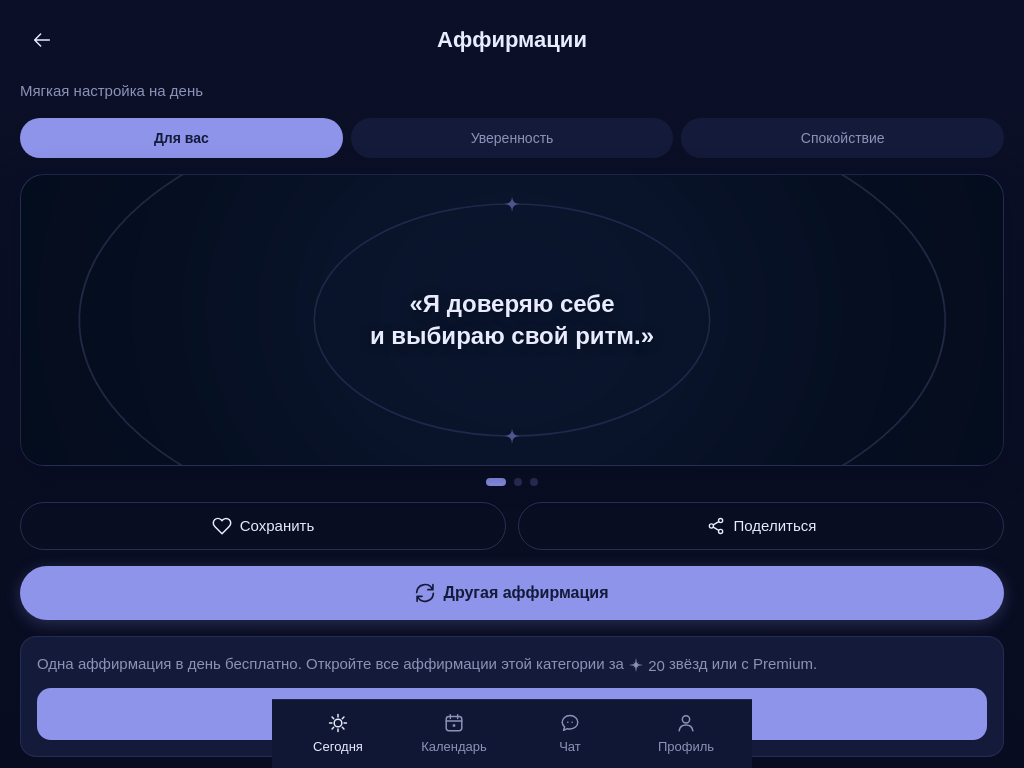
Test case: AffirmationsScreen › advances to next affirmation when 'Другая аффирмация' is clicked
Check: the text "«Я доверяю себе и выбираю свой ритм.»" is shown, box [370,288,654,352]
Click the button with aria-label "Показать другую аффирмацию" at (512, 593), box [20,566,1004,620]
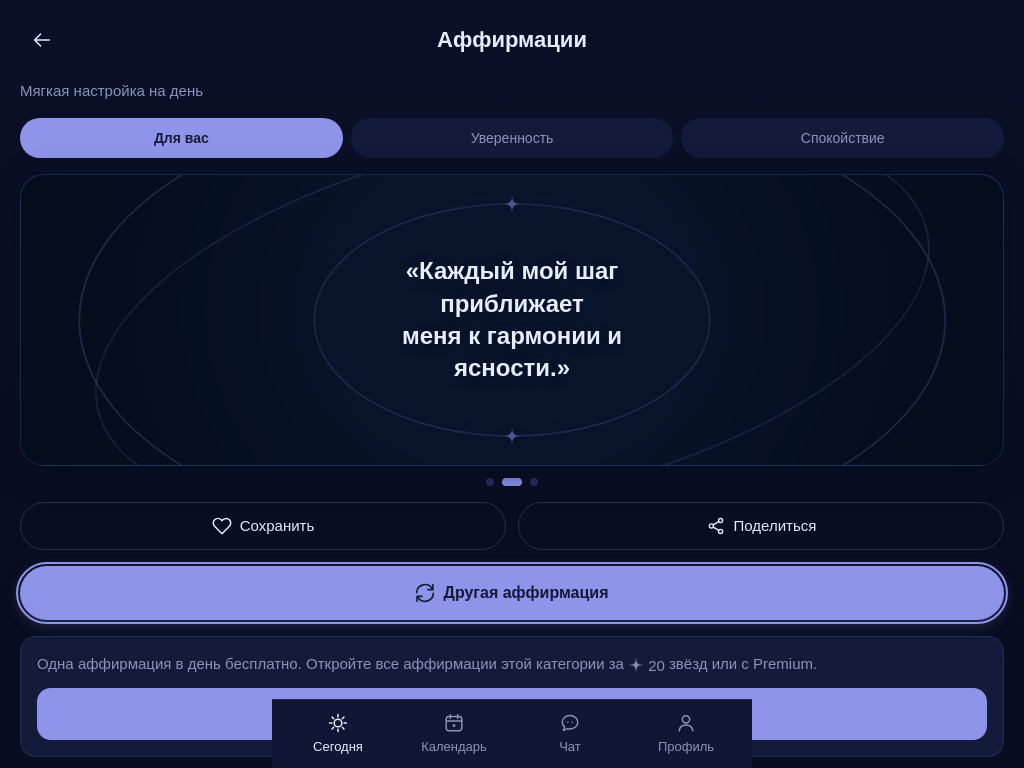
Check: the text "«Каждый мой шаг приближает меня к гармонии и ясности.»" is shown, box [402,257,622,381]
Click the button with aria-label "Показать другую аффирмацию" at (512, 593), box [20,566,1004,620]
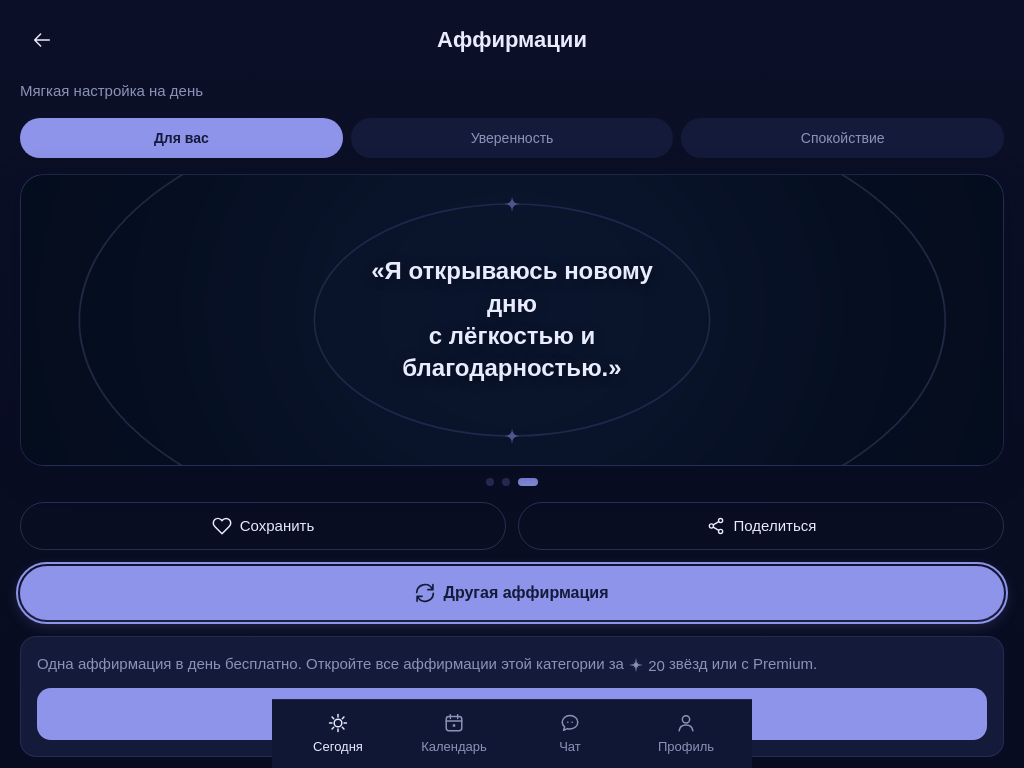
Check: the text "«Я открываюсь новому дню с лёгкостью и благодарностью.»" is shown, box [367,255,657,385]
Click the button with aria-label "Показать другую аффирмацию" at (512, 593), box [20,566,1004,620]
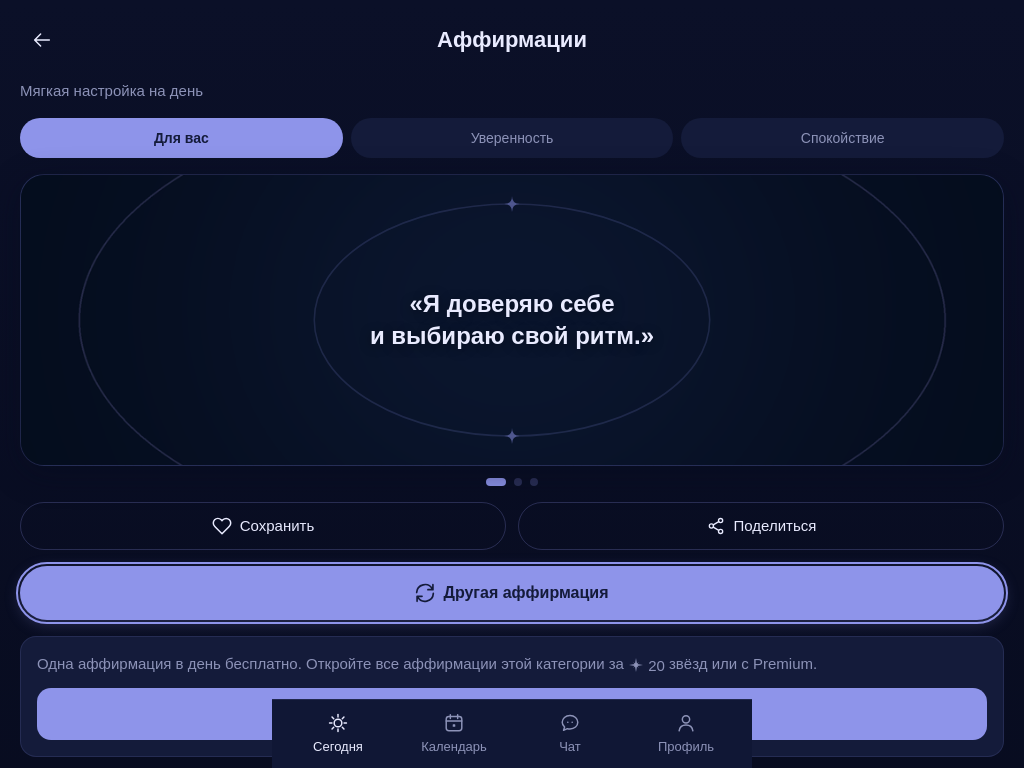
Check: the text "«Я доверяю себе и выбираю свой ритм.»" is shown, box [370,288,654,352]
